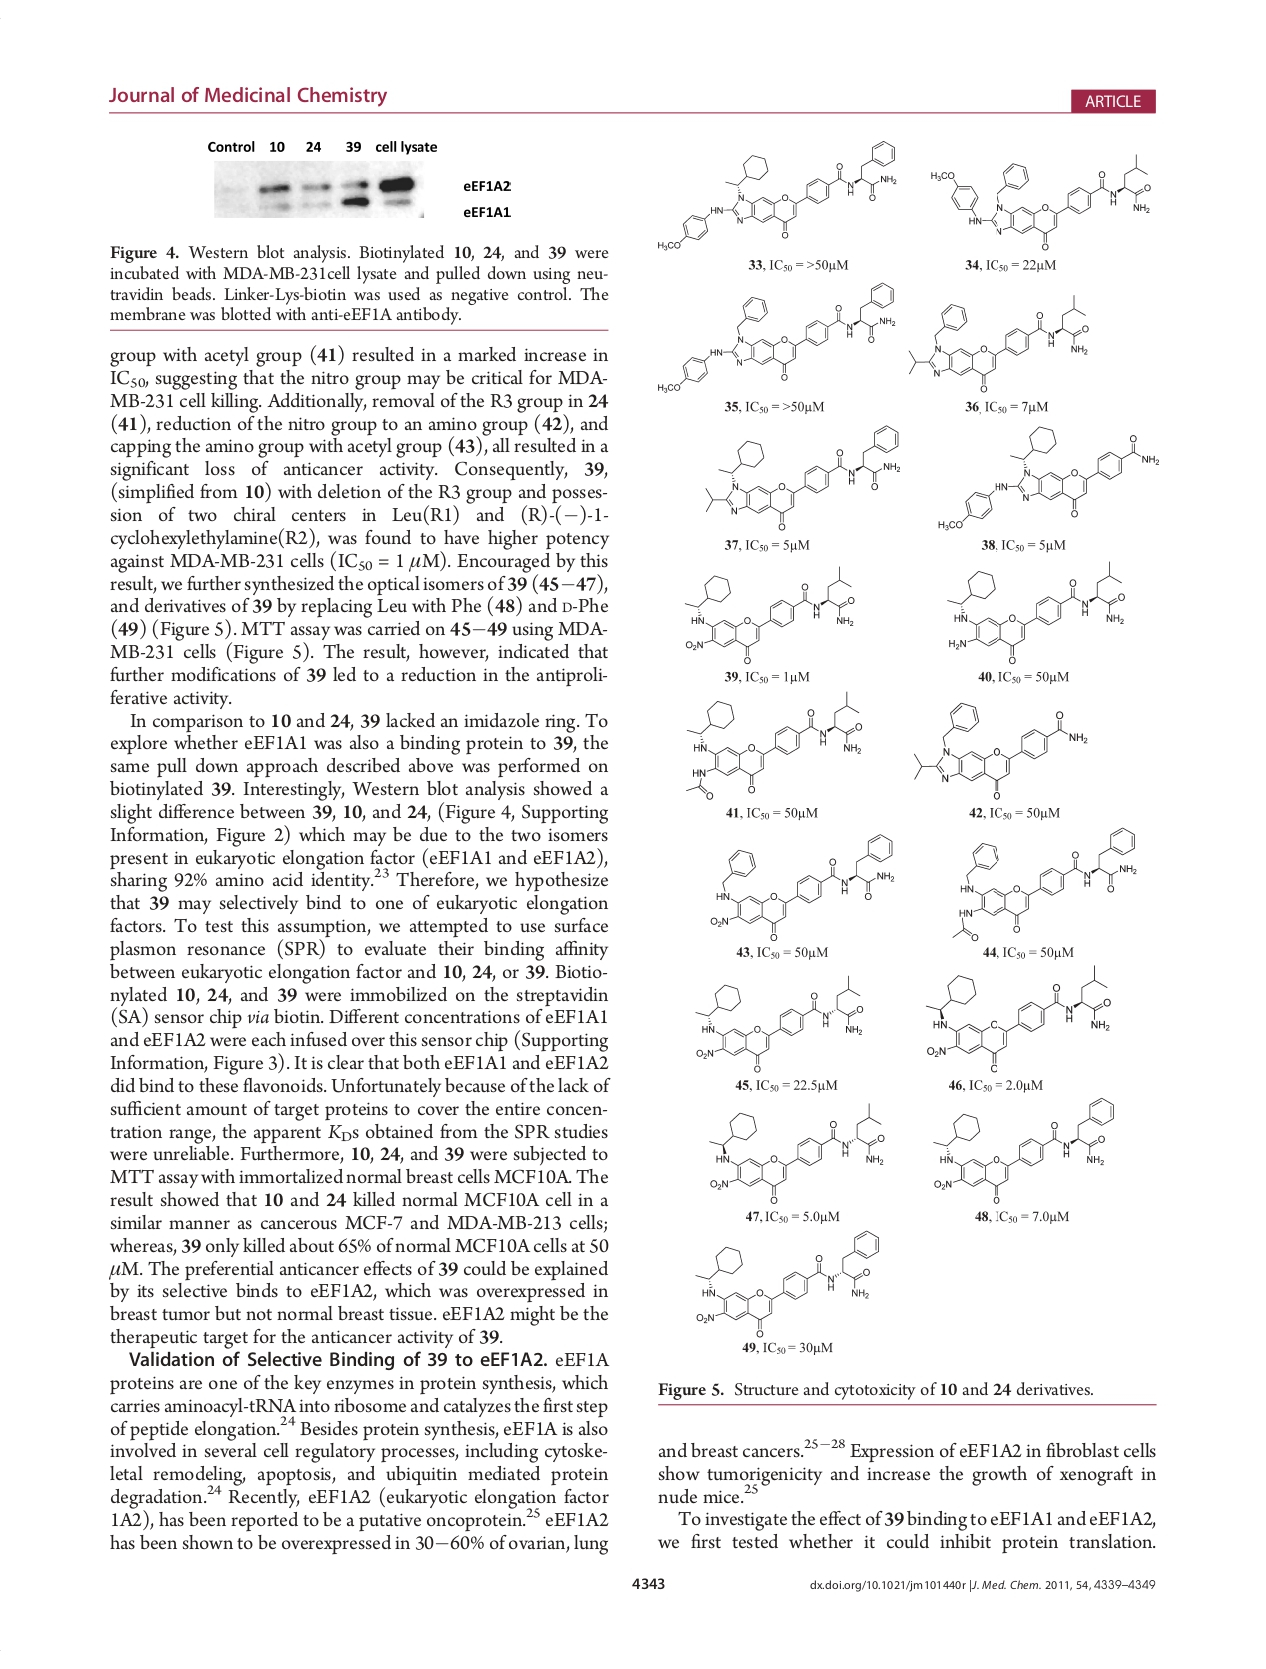exist_molecular: (656, 138, 903, 251), (653, 281, 898, 394), (934, 424, 1161, 532), (699, 422, 906, 535), (926, 153, 1156, 254), (916, 964, 1118, 1075), (948, 826, 1138, 942), (689, 1227, 887, 1338), (705, 833, 898, 946), (930, 1094, 1121, 1208), (681, 690, 868, 802), (936, 559, 1130, 666), (906, 293, 1093, 396), (680, 563, 856, 672), (906, 698, 1089, 803), (706, 1102, 887, 1208), (692, 972, 868, 1075)
